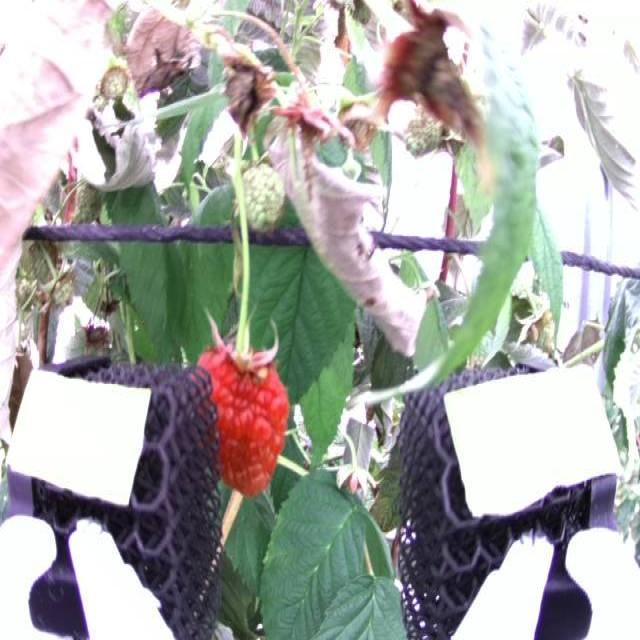Riped berries: (194, 335, 292, 497)
